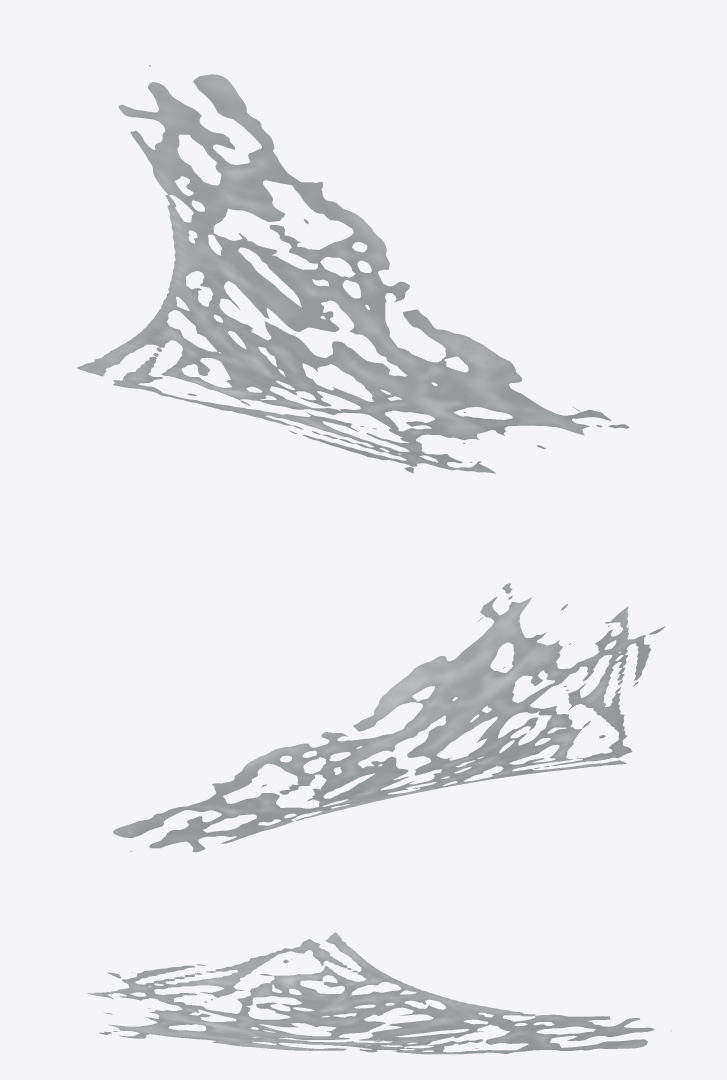
The model's file is dcfx_zzw_01.FBX.
3 views of the same model, one above another, from view 1: azimuth 30°, elevation 25°; view 2: azimuth 150°, elevation 25°; view 3: azimuth 270°, elevation 25° (orthographic). The views are drawn at different scales.
Parts seen in each view (by area): view 1: dcfx_zzw_01; view 2: dcfx_zzw_01; view 3: dcfx_zzw_01.
Boxes of the visible parts, x1,y1,x2,y2 form: dcfx_zzw_01: (76, 65, 628, 473); dcfx_zzw_01: (113, 583, 664, 852); dcfx_zzw_01: (87, 932, 671, 1054).
Bounding box in the file's own units: 382 × 45.73 × 693.
